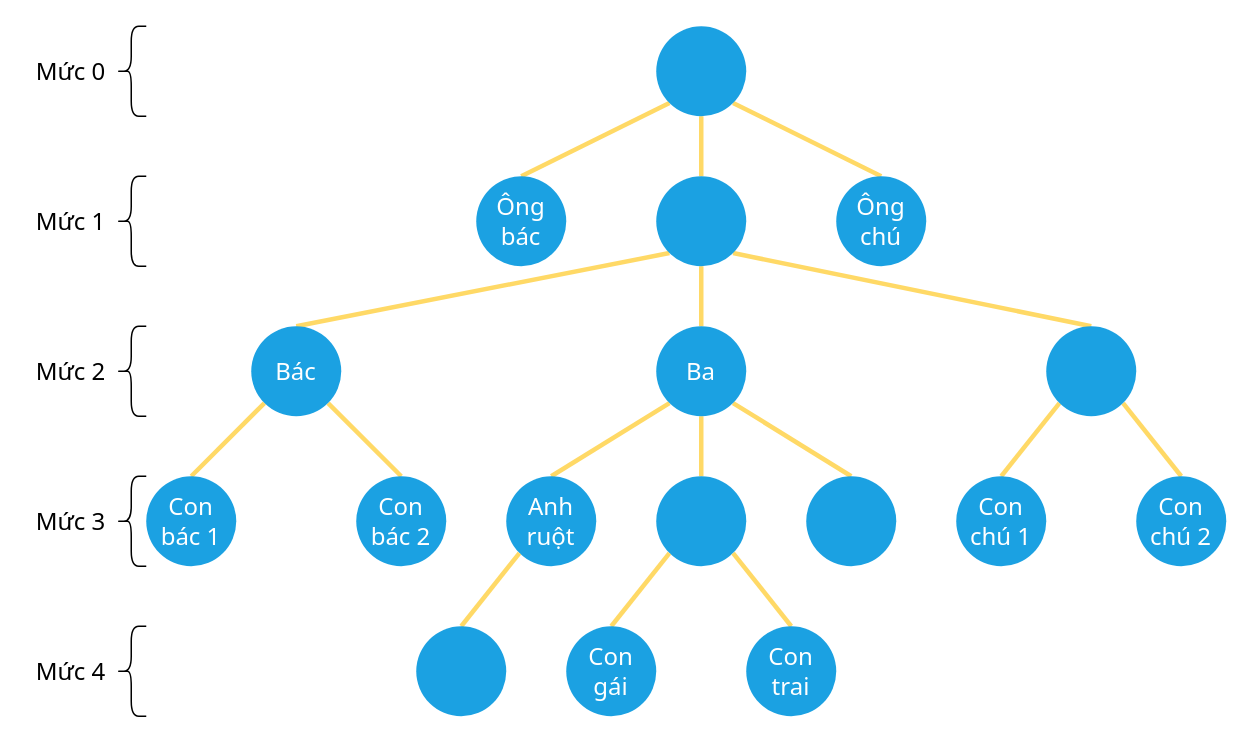
Some shapes in this 1251 by 743 pixel diagram are drawn without their labels. The box of each missing label's shape, as (x1, y1, x2, y2) in pixels:
Chú: (1046, 326, 1136, 416)
Con anh ruột: (416, 626, 506, 716)
Em ruột: (806, 476, 896, 566)
Tôi: (656, 476, 746, 566)
Ông cố: (656, 26, 746, 116)
Ông nội: (656, 176, 746, 266)
